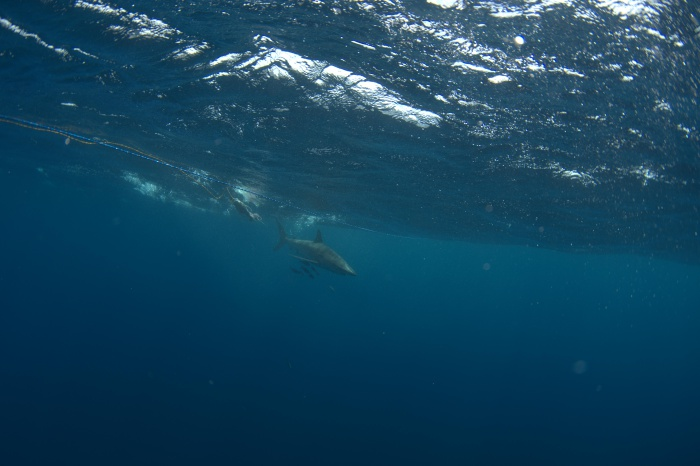Sedoso: (267, 207, 364, 284)
